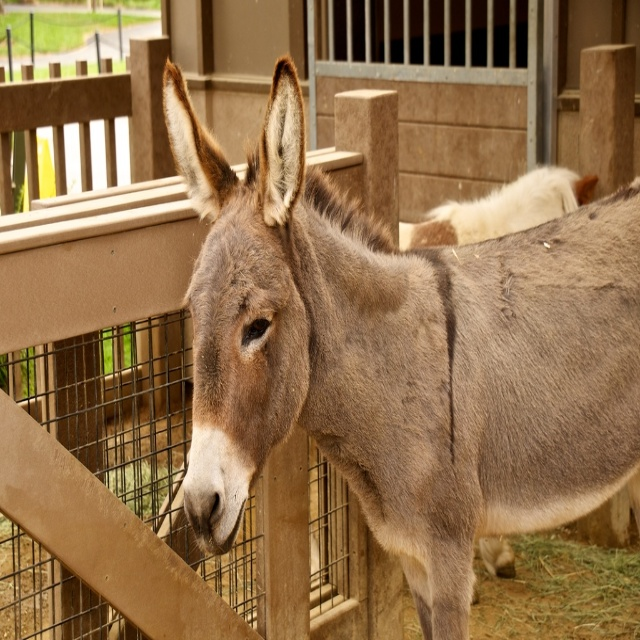Mule: (164, 58, 640, 639)
